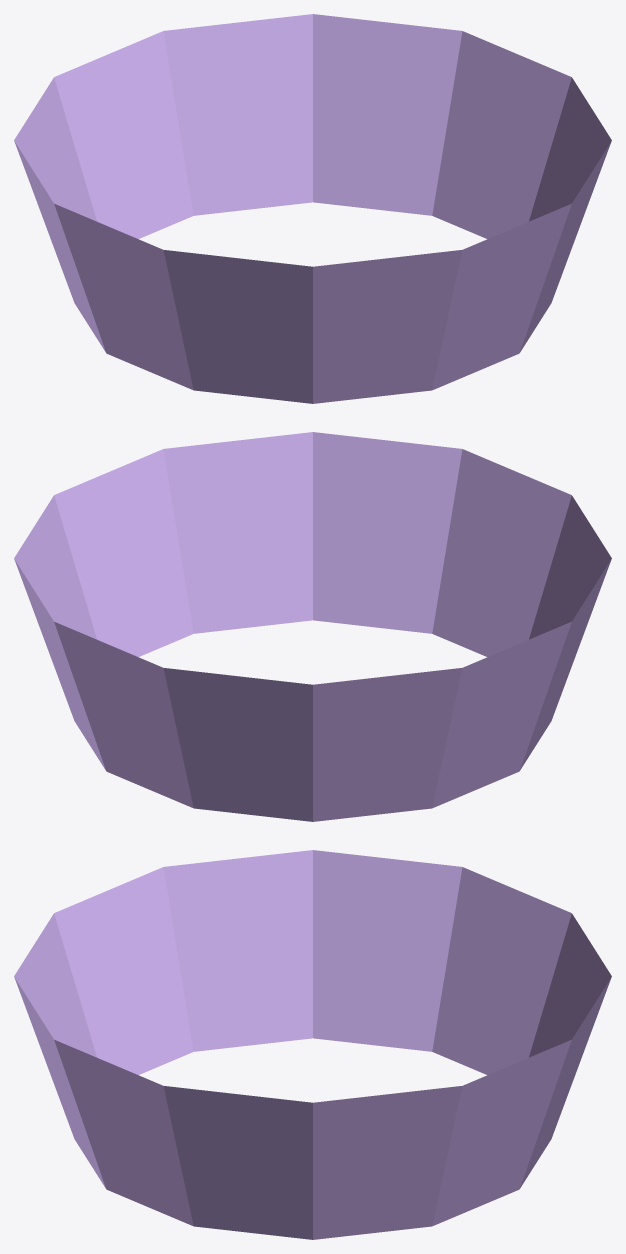
The model's file is QSMY_FB_Env_Battle_LeiTai_04.FBX.
The picture shows the model from 3 angles, top to bottom: view 1: azimuth 30°, elevation 25°; view 2: azimuth 150°, elevation 25°; view 3: azimuth 270°, elevation 25°; orthographic projection.
Visible parts, largest first — view 1: QSMY_FB_Env_Battle_LeiTai_04; view 2: QSMY_FB_Env_Battle_LeiTai_04; view 3: QSMY_FB_Env_Battle_LeiTai_04.
Part boxes in pixels (x1=…): QSMY_FB_Env_Battle_LeiTai_04: x1=14, y1=14, x2=611, y2=403; QSMY_FB_Env_Battle_LeiTai_04: x1=14, y1=432, x2=611, y2=821; QSMY_FB_Env_Battle_LeiTai_04: x1=14, y1=850, x2=611, y2=1239.
Bounding box in the file's own units: 81.78 × 24.57 × 81.78.
Materials: 1 (1 with a texture image).
